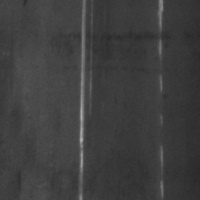scratches: (76, 0, 92, 199), (157, 0, 169, 152), (155, 140, 169, 199)
